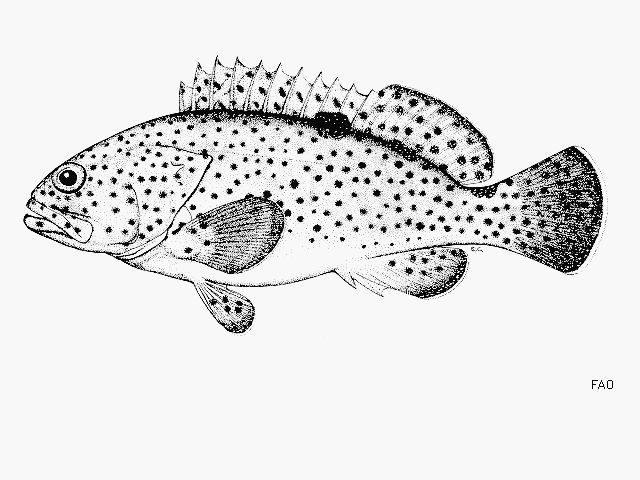fish: (23, 55, 607, 335)
